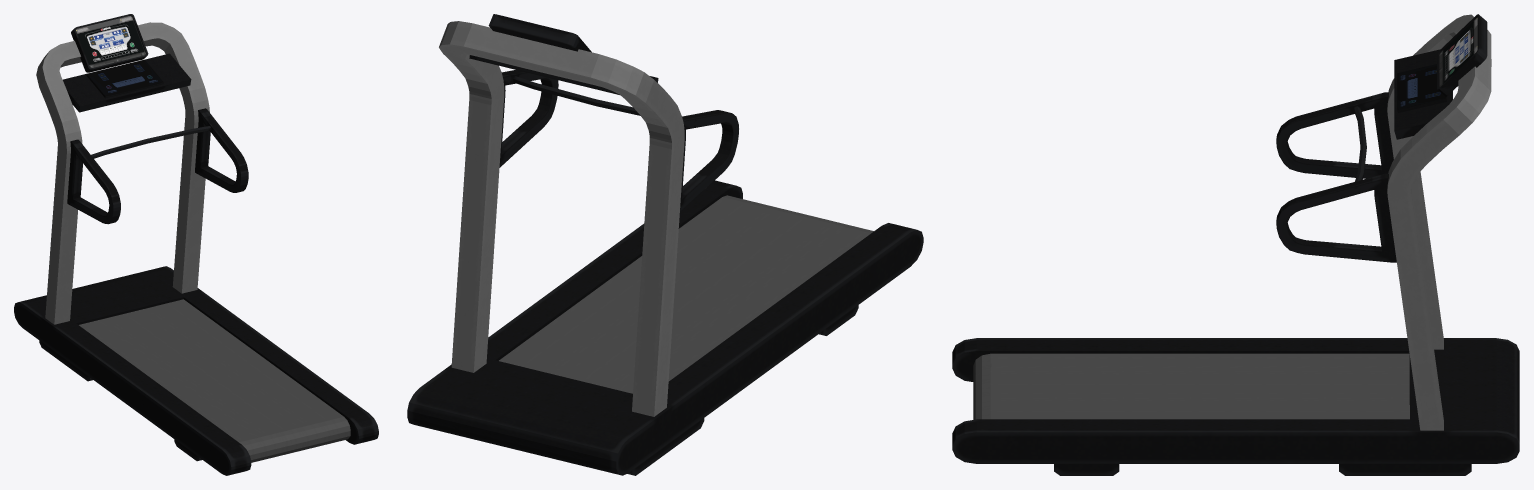
The model's file is running-machine.fbx.
The picture shows the model from 3 angles, left to right: view 1: azimuth 30°, elevation 25°; view 2: azimuth 150°, elevation 25°; view 3: azimuth 270°, elevation 25°; orthographic projection. The views are drawn at different scales.
Visible parts, largest first — view 1: Running Machine; view 2: Running Machine; view 3: Running Machine.
Part boxes in pixels (x1,y1,x2,y2): Running Machine: [14, 14, 378, 475]; Running Machine: [407, 14, 923, 475]; Running Machine: [952, 14, 1519, 475].
Bounding box in the file's own units: 0.8462 × 1.68 × 2.15.
1 material, 1 textured.
